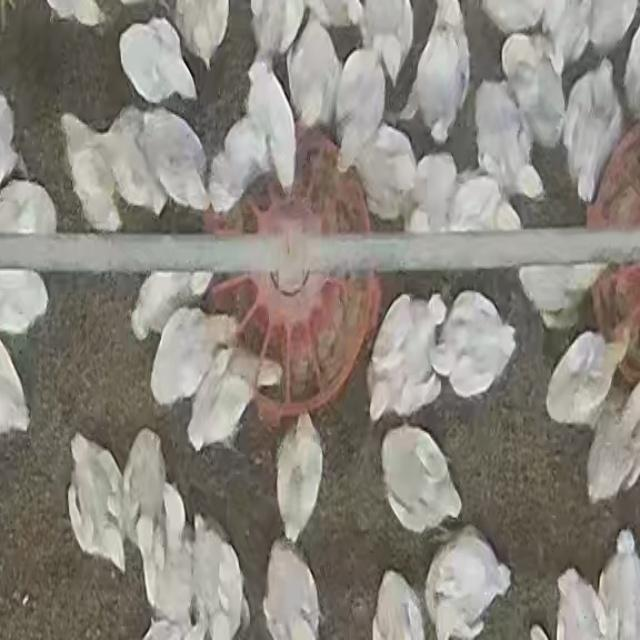chicken: (188, 349, 282, 450), (423, 531, 510, 640), (368, 294, 443, 417), (380, 427, 464, 534), (430, 292, 515, 397), (68, 430, 130, 572), (412, 0, 471, 144), (544, 334, 628, 431), (478, 80, 543, 202), (139, 108, 212, 213), (151, 312, 234, 403), (503, 33, 569, 147), (273, 406, 329, 538), (565, 60, 617, 200), (61, 112, 122, 231), (191, 513, 246, 640), (585, 375, 640, 502), (144, 478, 191, 624), (335, 44, 386, 173), (249, 62, 299, 192), (119, 23, 198, 103), (104, 116, 166, 214), (520, 258, 606, 326), (262, 543, 321, 640), (123, 429, 166, 555), (290, 19, 339, 126), (212, 112, 264, 210), (132, 273, 210, 338), (361, 125, 413, 222), (405, 152, 460, 238), (362, 0, 414, 86), (603, 527, 640, 640), (556, 563, 610, 640), (172, 0, 230, 63), (247, 0, 304, 64), (371, 570, 423, 640), (540, 0, 592, 69), (454, 178, 518, 234), (0, 178, 58, 237), (0, 270, 53, 334)
